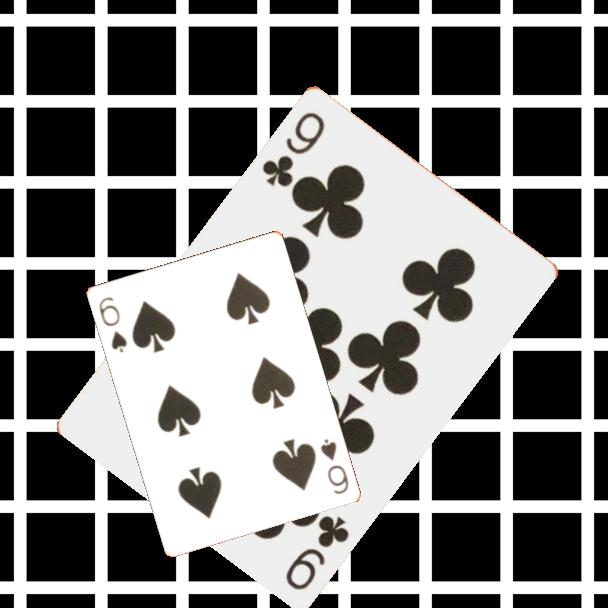c09: (281, 511, 352, 593), (258, 107, 328, 190)
s06: (95, 293, 130, 355), (317, 435, 351, 497)
